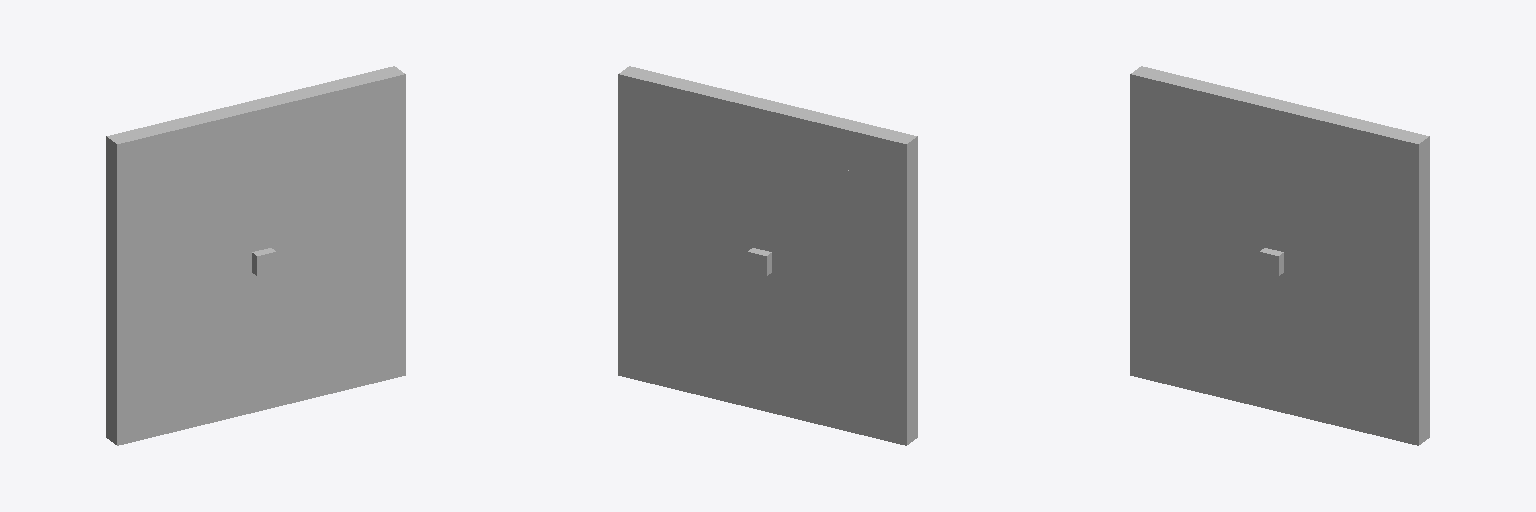
Rendered from doors_hobbit_door.obj.
3 views of the same model, side by side, from view 1: azimuth 30°, elevation 25°; view 2: azimuth 150°, elevation 25°; view 3: azimuth 330°, elevation 25° (orthographic).
Visible parts, largest first — view 1: Cube.001; view 2: Cube.001; view 3: Cube.001.
Part boxes in pixels (x1,y1,x2,y2): Cube.001: (106, 66, 405, 445); Cube.001: (618, 66, 917, 445); Cube.001: (1130, 66, 1429, 445).
Size of the model in its own units: 2 by 2 by 0.2666.